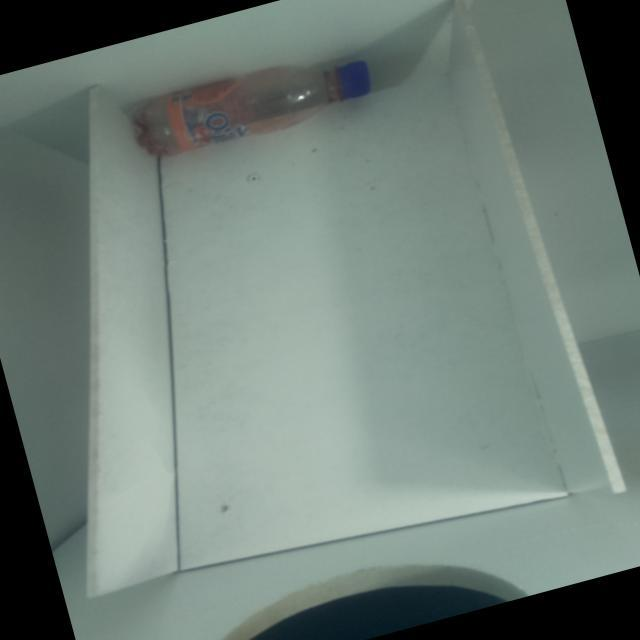good: (94, 25, 393, 197)
